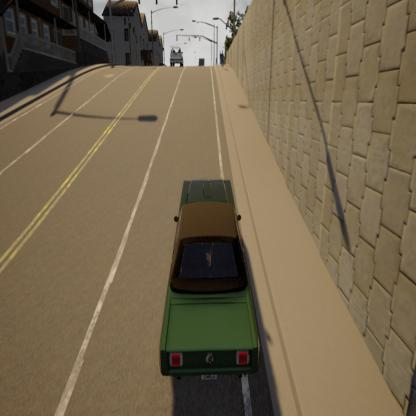Cars: (147, 171, 267, 392), (168, 45, 187, 69)
